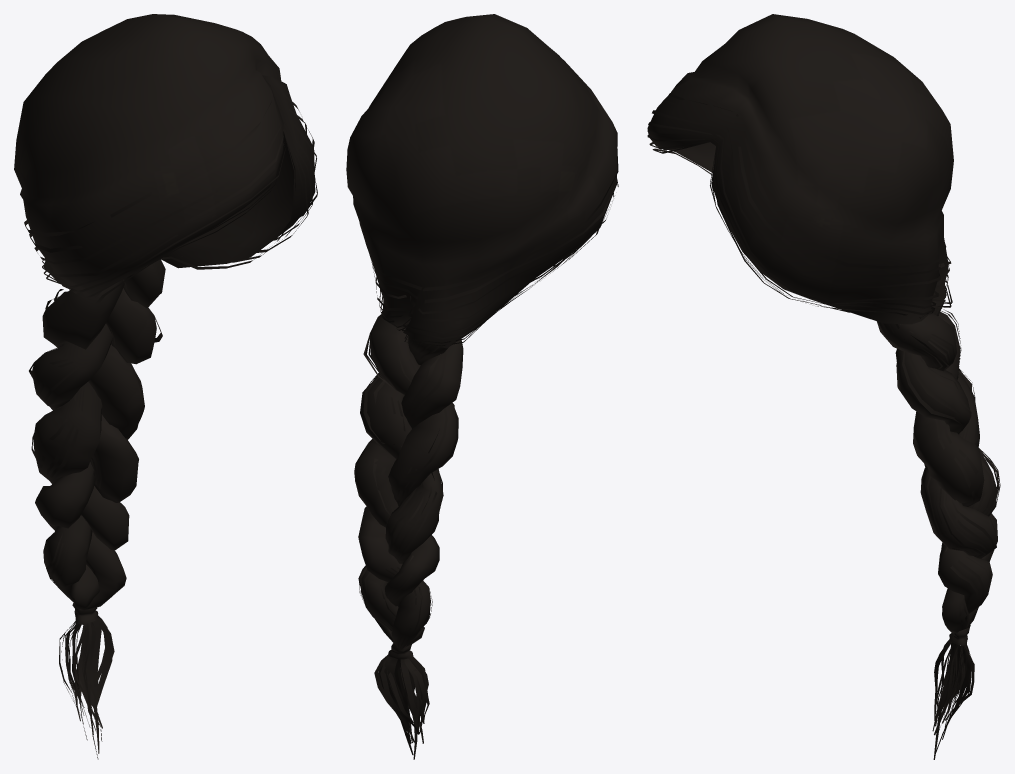
File: hair_boxbraids.glb
3 renders of one model, left to right at view 1: azimuth 30°, elevation 25°; view 2: azimuth 150°, elevation 25°; view 3: azimuth 270°, elevation 25°, orthographic. The views are drawn at different scales.
Parts seen in each view (by area): view 1: hair_boxbraids; view 2: hair_boxbraids; view 3: hair_boxbraids.
Part boxes in pixels (x1,y1,x2,y2): hair_boxbraids: (14,14,317,759); hair_boxbraids: (346,14,618,759); hair_boxbraids: (647,14,1000,759).
Bounding box in the file's own units: 0.2094 × 0.6201 × 0.2681.
1 material, 1 textured.
